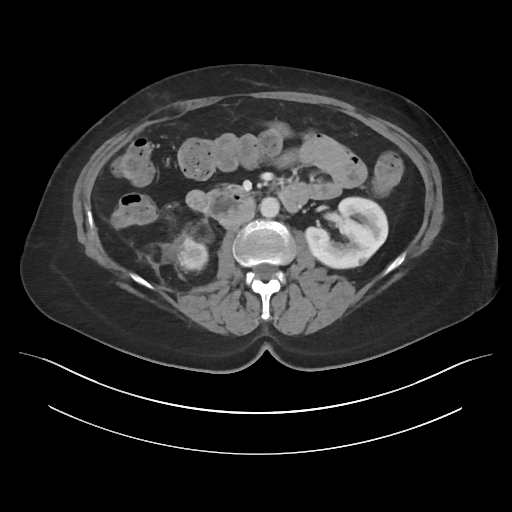Lesion: (354, 256, 372, 266)
